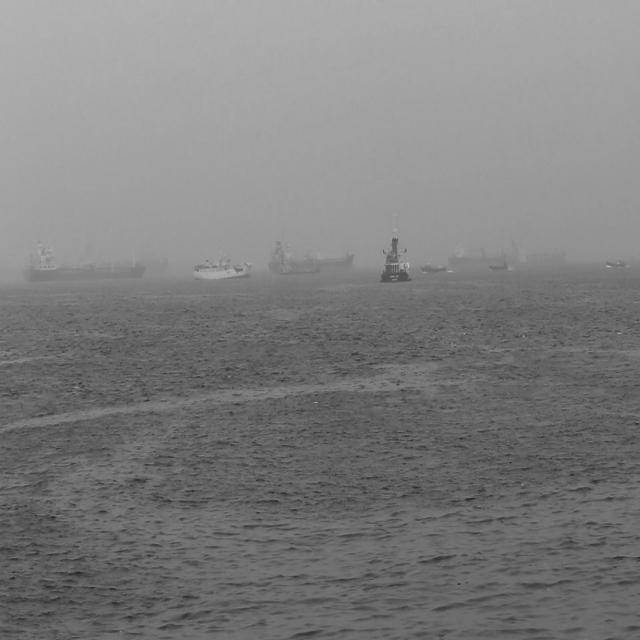ship: (25, 238, 146, 278), (268, 240, 354, 276), (382, 212, 412, 284), (193, 253, 254, 280), (448, 246, 516, 264), (420, 262, 447, 274), (606, 258, 626, 270), (487, 262, 509, 272)
